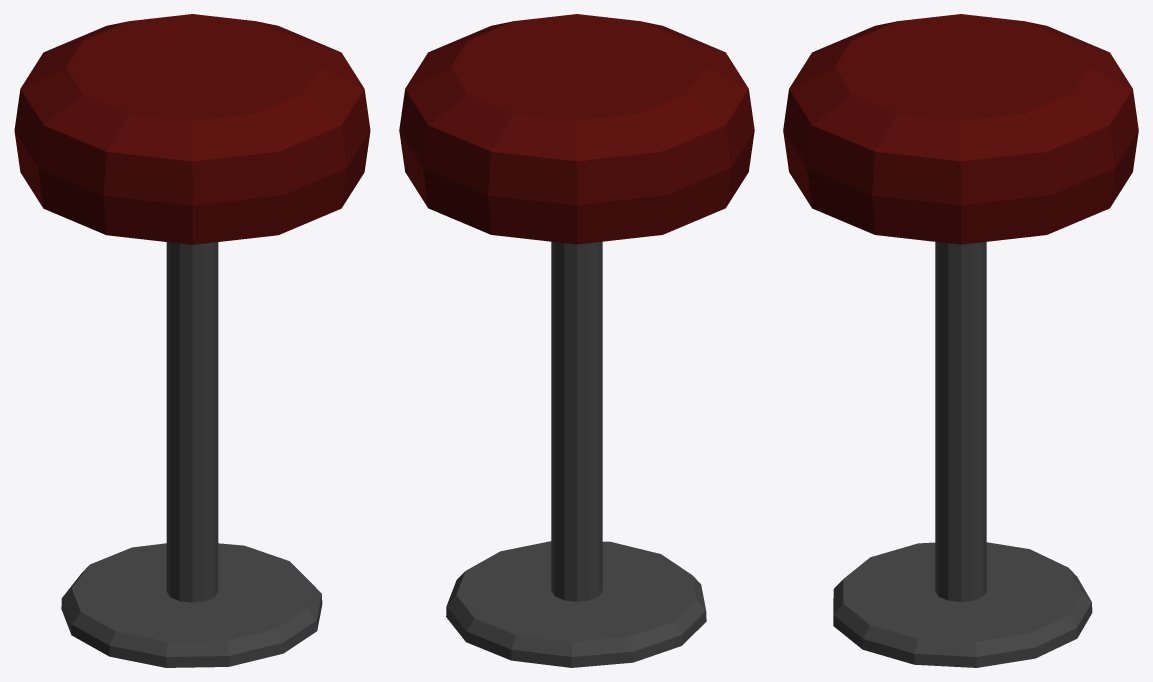
Rendered from hh_stool.glb.
The picture shows the model from 3 angles, left to right: view 1: azimuth 30°, elevation 25°; view 2: azimuth 150°, elevation 25°; view 3: azimuth 270°, elevation 25°; orthographic projection.
Visible parts, largest first — view 1: Chair_C; view 2: Chair_C; view 3: Chair_C.
Boxes of the visible parts, x1,y1,x2,y2 form: Chair_C: (14,14,370,667); Chair_C: (399,14,754,667); Chair_C: (783,14,1138,667).
Size of the model in its own units: 0.3673 by 0.6215 by 0.3673.
